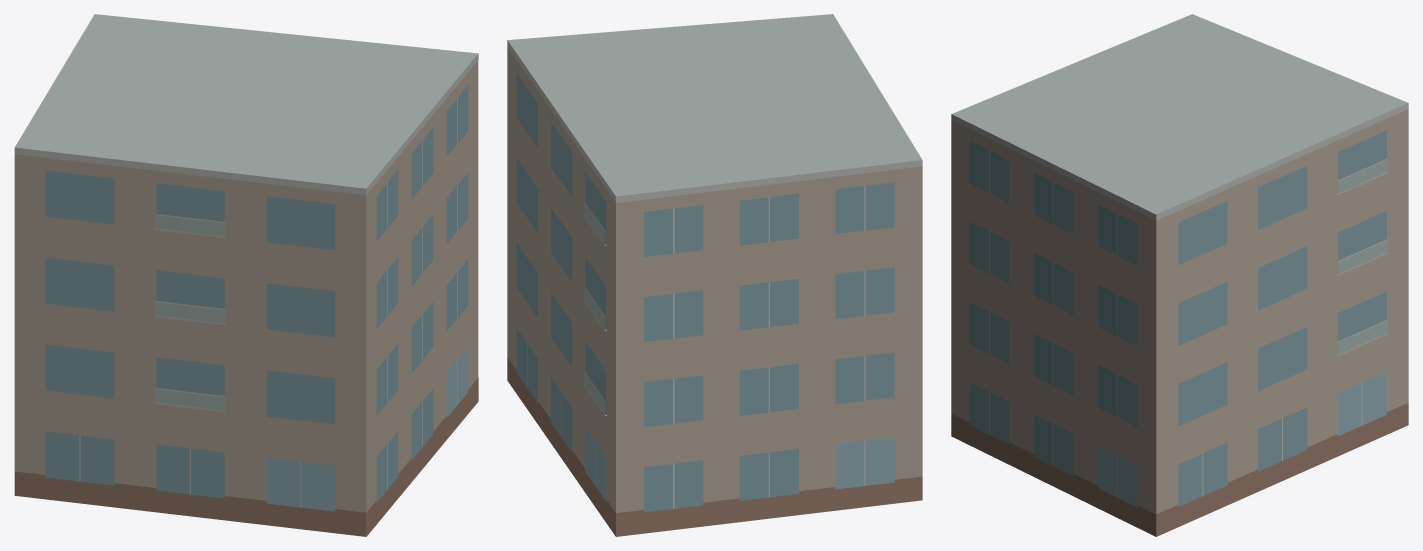
Rendered from survey-upis-32597817.glb.
The picture shows the model from 3 angles, left to right: view 1: azimuth 30°, elevation 25°; view 2: azimuth 150°, elevation 25°; view 3: azimuth 270°, elevation 25°; orthographic projection. The views are drawn at different scales.
Visible parts, largest first — view 1: survey-upis-32597817.tmp; view 2: survey-upis-32597817.tmp; view 3: survey-upis-32597817.tmp.
Boxes of the visible parts, bbox=[...] form: survey-upis-32597817.tmp: bbox=[14, 14, 478, 536]; survey-upis-32597817.tmp: bbox=[507, 14, 922, 536]; survey-upis-32597817.tmp: bbox=[951, 14, 1408, 536].
Bounding box in the file's own units: 17.17 × 12.85 × 16.53.
